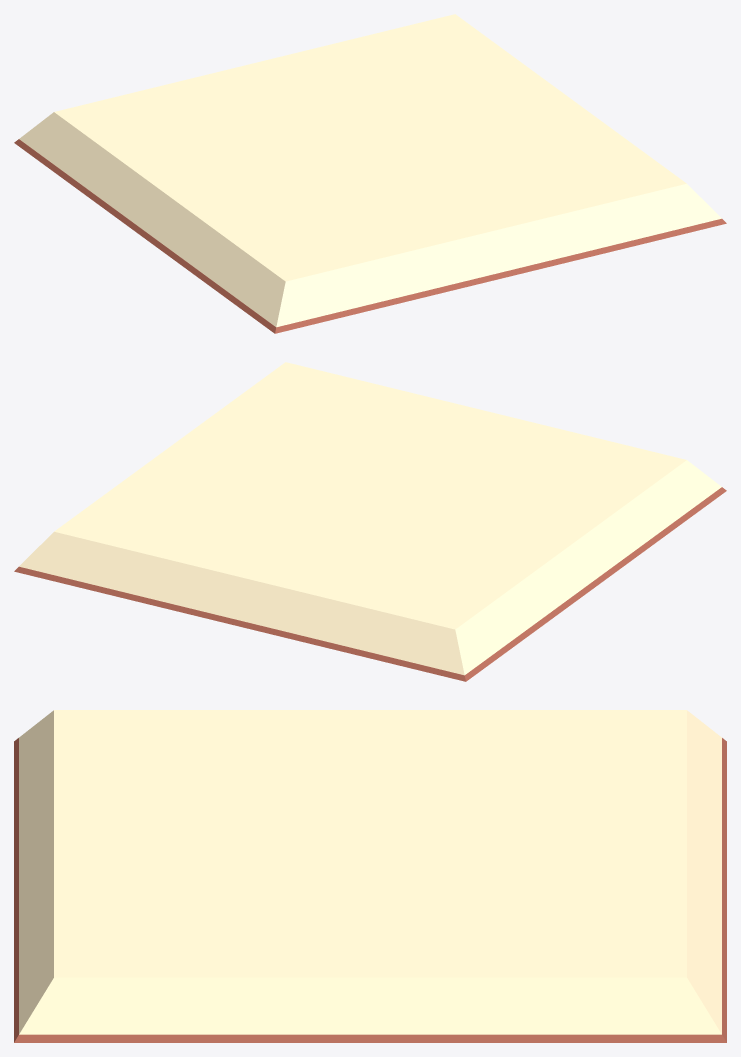
File: giza-khafre-b30.glb
The picture shows the model from 3 angles, top to bottom: view 1: azimuth 30°, elevation 25°; view 2: azimuth 150°, elevation 25°; view 3: azimuth 270°, elevation 25°; orthographic projection. The views are drawn at different scales.
Bounding box in the file's own units: 215 × 16.1 × 215.
